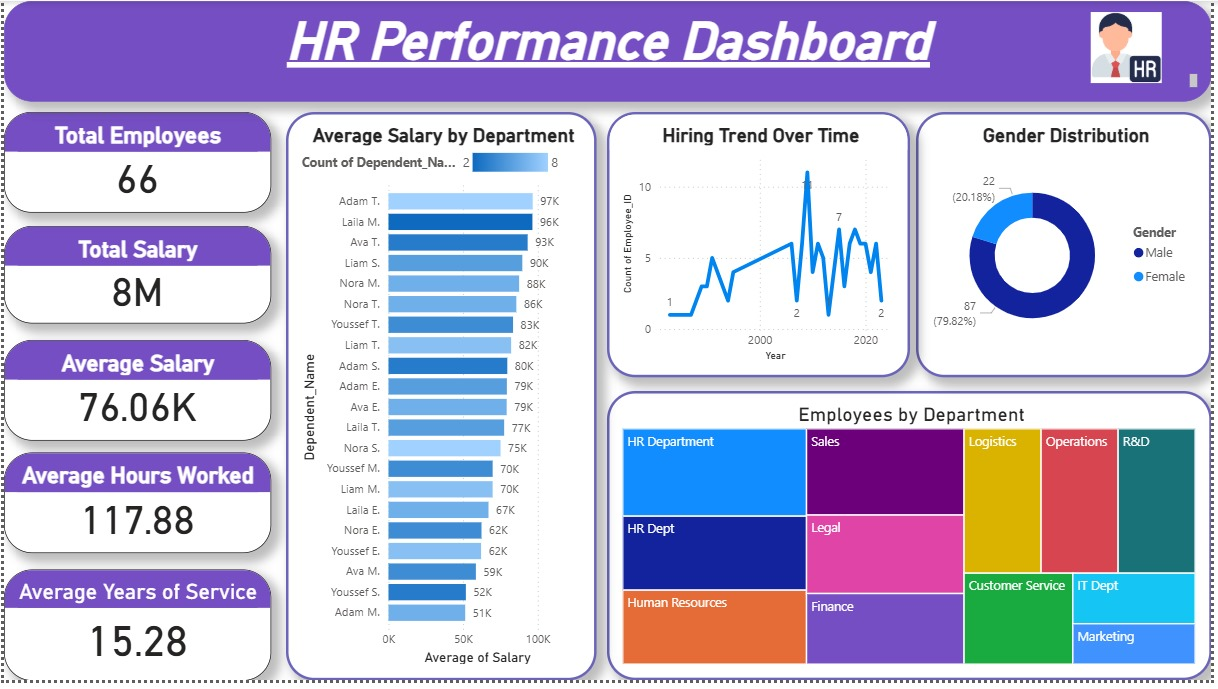

This screenshot's page, from the dashboard's own definition file:
{"tool":"powerbi","page":{"name":"Page 1","canvas":[1280,720],"ordinal":0},"visuals":[{"type":"card","title":"Total Employees","fields":{"Values":["Sheet1 (2).Total Employees"]},"box":[0,117.7,283.1,106.6],"z":0},{"type":"card","title":"Total Salary","fields":{"Values":["Sheet1 (2).Total Salary"]},"box":[0,238.6,283.1,103.4],"z":1000},{"type":"card","title":"Average Salary","fields":{"Values":["Sheet1 (2).Average Salary"]},"box":[0,359.5,283.1,106.6],"z":2000},{"type":"card","title":"Average Hours Worked","fields":{"Values":["Sheet1 (2).Average Hours Worked"]},"box":[0,478.8,283.1,106.6],"z":3000},{"type":"textbox","title":"HR Performance Dashboard","box":[0,0,1280.4,106.6],"z":4000},{"type":"card","title":"Average Years of Service","fields":{"Values":["Sheet1 (2).Average Years of Service"]},"box":[0,602.8,283.1,117.7],"z":5000},{"type":"image","box":[1135.7,6.4,108.2,85.9],"z":6000},{"type":"treemap","title":"Employees by Department","fields":{"Group":["Sheet1 (2).Department_Name"],"Values":["CountNonNull(Sheet1 (2).Employee_ID)"]},"box":[639.4,413.6,641,307],"z":7000},{"type":"donutChart","title":"Gender Distribution","fields":{"Category":["Sheet1 (2).Gender"],"Y":["CountNonNull(Sheet1 (2).Employee_ID)"]},"box":[967.1,117.7,313.4,281.5],"z":8000},{"type":"clusteredBarChart","title":"Average Salary by Department","fields":{"Category":["Sheet1 (2).Dependent_Name"],"Y":["Avg(Sheet1 (2).Salary)"]},"box":[299,117.7,329.3,602.8],"z":9000},{"type":"lineChart","title":"Hiring Trend Over Time","fields":{"Category":["Sheet1 (2).Hire_Date.Variation.Date Hierarchy.Year"],"Y":["CountNonNull(Sheet1 (2).Employee_ID)"]},"box":[639.4,117.7,321.3,281.5],"z":10000}]}

Visuals, with their boxes in screenshot pixels (x1, y1, x2, y2), scaled from the page's 1280x720 canvas onto the 1218x689 screenshot:
"Total Employees" card: detection(0, 113, 269, 215)
"Total Salary" card: detection(0, 228, 269, 327)
"Average Salary" card: detection(0, 344, 269, 446)
"Average Hours Worked" card: detection(0, 458, 269, 560)
"HR Performance Dashboard" textbox: detection(0, 0, 1217, 102)
"Average Years of Service" card: detection(0, 577, 269, 688)
image: detection(1081, 6, 1184, 88)
"Employees by Department" treemap: detection(608, 396, 1217, 688)
"Gender Distribution" donutChart: detection(920, 113, 1217, 382)
"Average Salary by Department" clusteredBarChart: detection(285, 113, 598, 688)
"Hiring Trend Over Time" lineChart: detection(608, 113, 914, 382)
